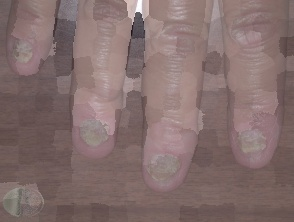Nail_psoriasis: (137, 121, 201, 197), (224, 110, 290, 174), (68, 101, 121, 159), (4, 33, 47, 78)
